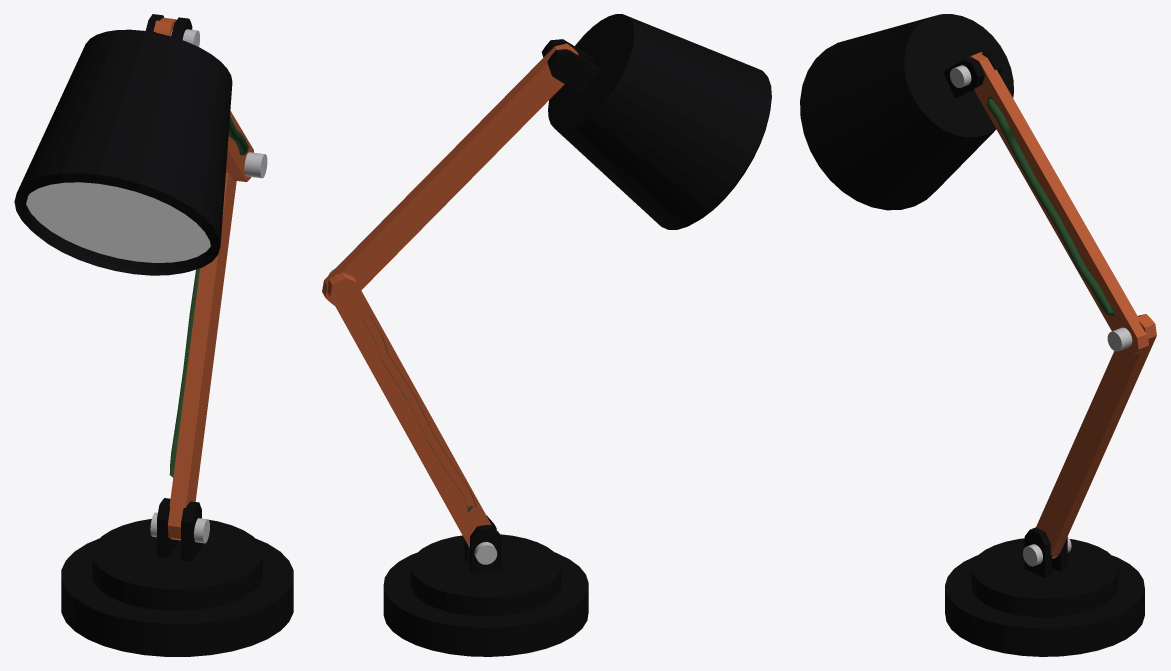
Rendered from TischLampe.fbx.
3 renders of one model, left to right at view 1: azimuth 30°, elevation 25°; view 2: azimuth 150°, elevation 25°; view 3: azimuth 270°, elevation 25°, orthographic. The views are drawn at different scales.
Parts seen in each view (by area): view 1: Tischlampe; view 2: Tischlampe; view 3: Tischlampe.
Boxes of the visible parts, bbox=[...] form: Tischlampe: bbox=[14, 14, 293, 656]; Tischlampe: bbox=[322, 14, 771, 656]; Tischlampe: bbox=[800, 14, 1156, 656].
Bounding box in the file's own units: 54.65 × 92.1 × 53.52.
